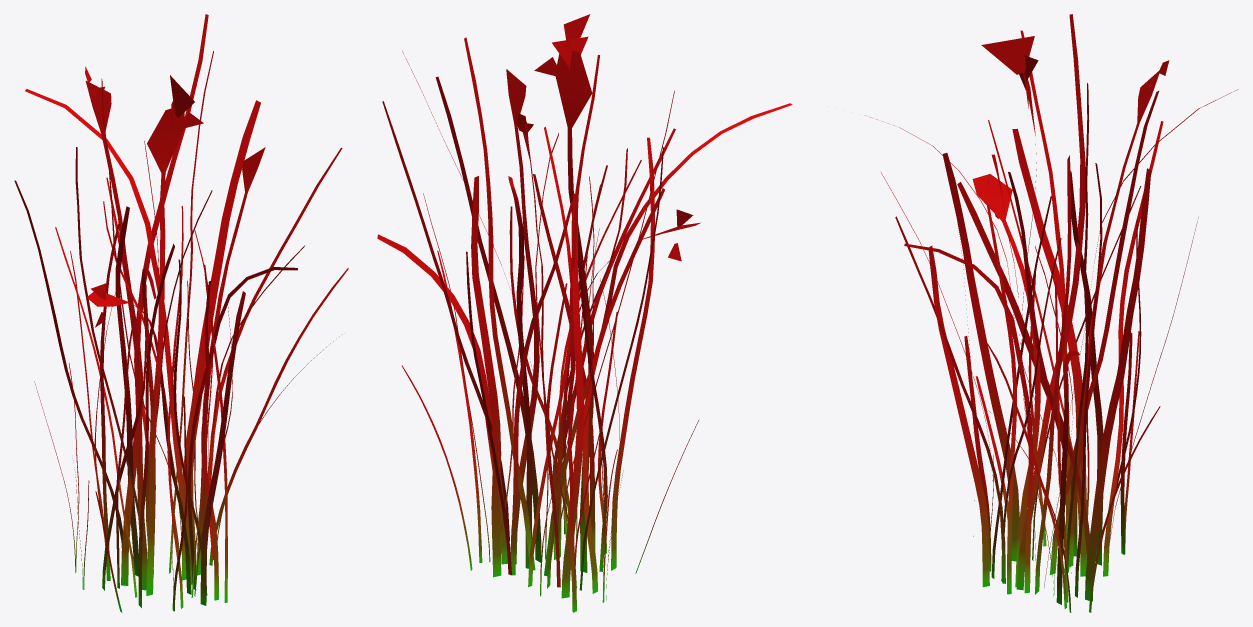
The model's file is Softstem Bulrush_LOD1_Var3_uehjcafia.fbx.
3 renders of one model, left to right at view 1: azimuth 30°, elevation 25°; view 2: azimuth 150°, elevation 25°; view 3: azimuth 270°, elevation 25°, orthographic. The views are drawn at different scales.
Visible parts, largest first — view 1: _b900_Var3_LOD1; view 2: _b900_Var3_LOD1; view 3: _b900_Var3_LOD1.
Boxes of the visible parts, x1,y1,x2,y2 form: _b900_Var3_LOD1: (14, 14, 348, 612); _b900_Var3_LOD1: (377, 14, 792, 612); _b900_Var3_LOD1: (865, 14, 1238, 612).
Bounding box in the file's own units: 72.61 × 124 × 85.94.
